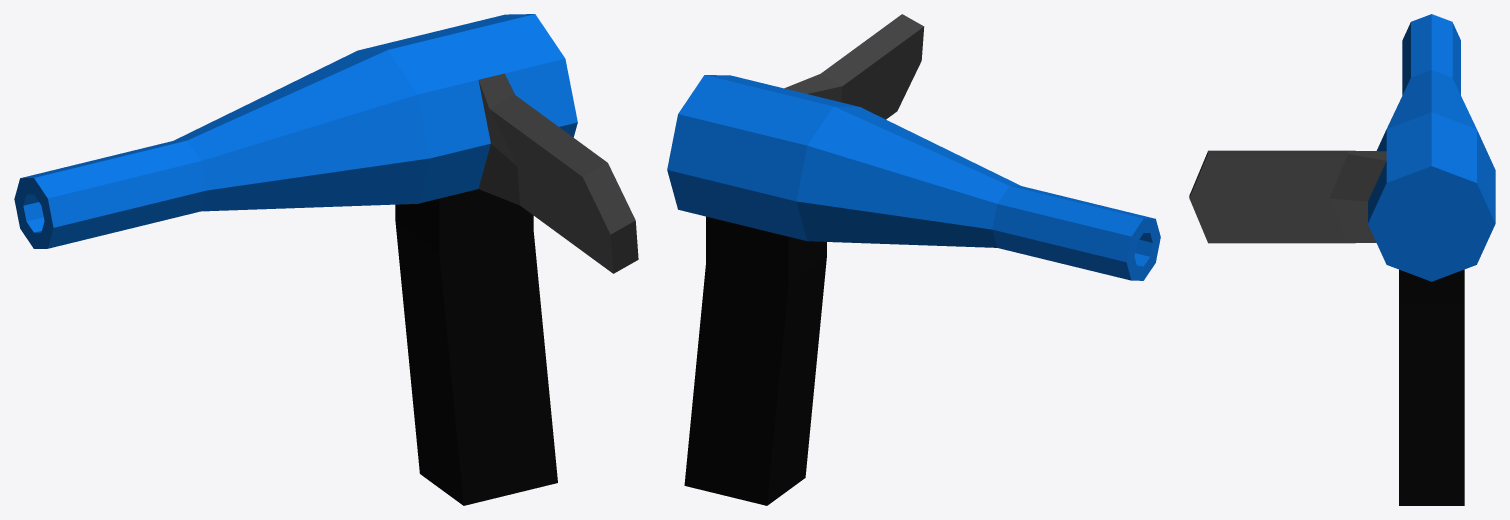
File: spawn gun.fbx
3 renders of one model, left to right at view 1: azimuth 30°, elevation 25°; view 2: azimuth 150°, elevation 25°; view 3: azimuth 270°, elevation 25°, orthographic. The views are drawn at different scales.
Parts seen in each view (by area): view 1: Cylinder; view 2: Cylinder; view 3: Cylinder.
Boxes of the visible parts, bbox=[...] form: Cylinder: bbox=[14, 14, 638, 505]; Cylinder: bbox=[667, 14, 1160, 505]; Cylinder: bbox=[1189, 14, 1495, 505].
Bounding box in the file's own units: 154 × 132 × 108.
